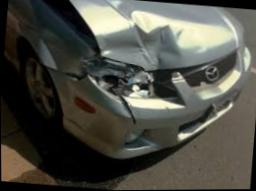Bonnet: (42, 0, 216, 72)
Bumper: (49, 67, 206, 158)
Fender: (33, 32, 79, 70)
